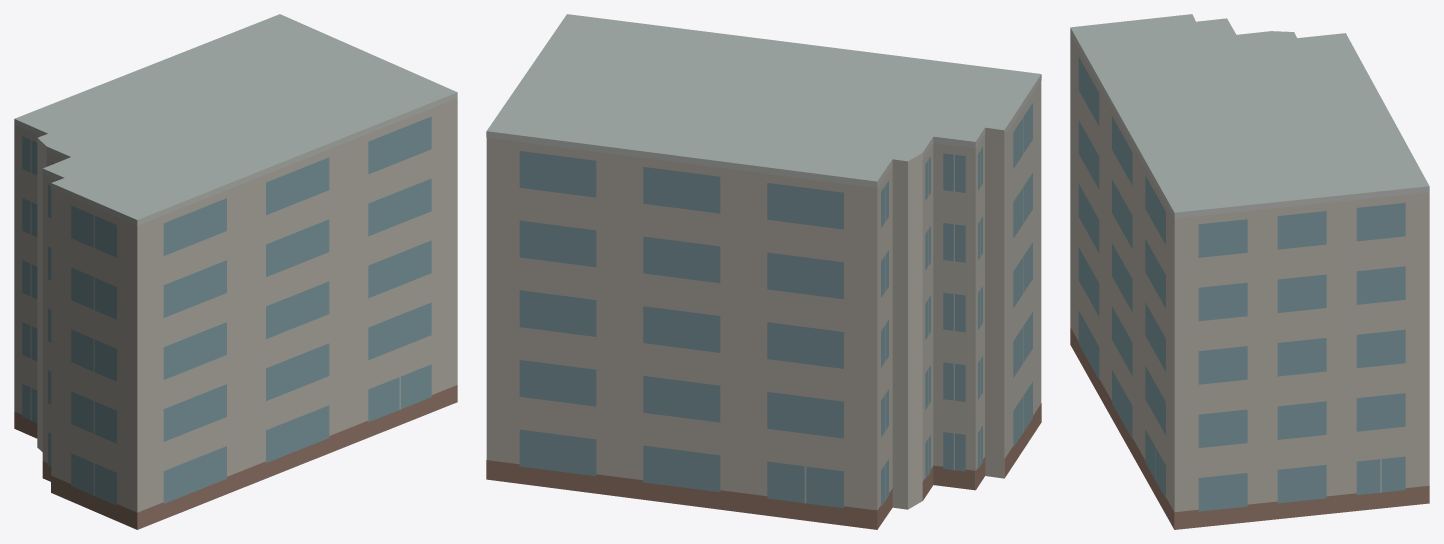
Rendered from survey-upis-33015989.glb.
3 views of the same model, side by side, from view 1: azimuth 30°, elevation 25°; view 2: azimuth 150°, elevation 25°; view 3: azimuth 270°, elevation 25° (orthographic). The views are drawn at different scales.
Parts seen in each view (by area): view 1: survey-upis-33015989.tmp; view 2: survey-upis-33015989.tmp; view 3: survey-upis-33015989.tmp.
Boxes of the visible parts, left/top/right/bottom form: survey-upis-33015989.tmp: left=14, top=14, right=457, bottom=529; survey-upis-33015989.tmp: left=486, top=14, right=1041, bottom=529; survey-upis-33015989.tmp: left=1070, top=14, right=1429, bottom=529.
Size of the model in its own units: 17.61 by 13.1 by 13.46.
